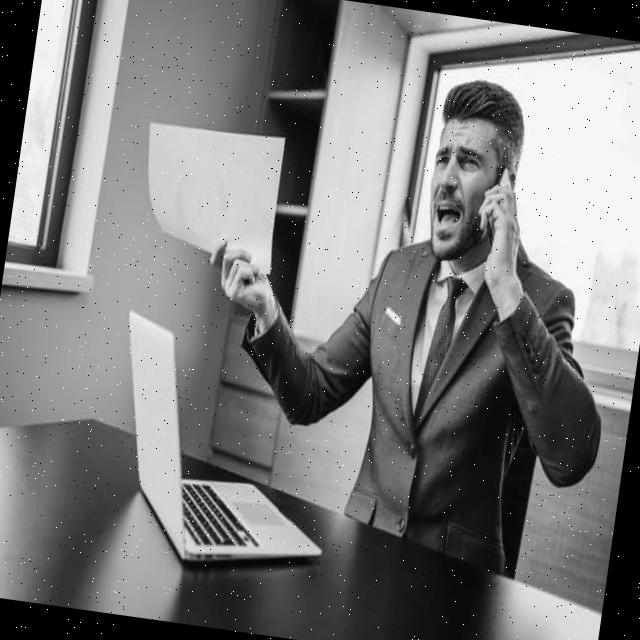Angry: (420, 116, 508, 267)
